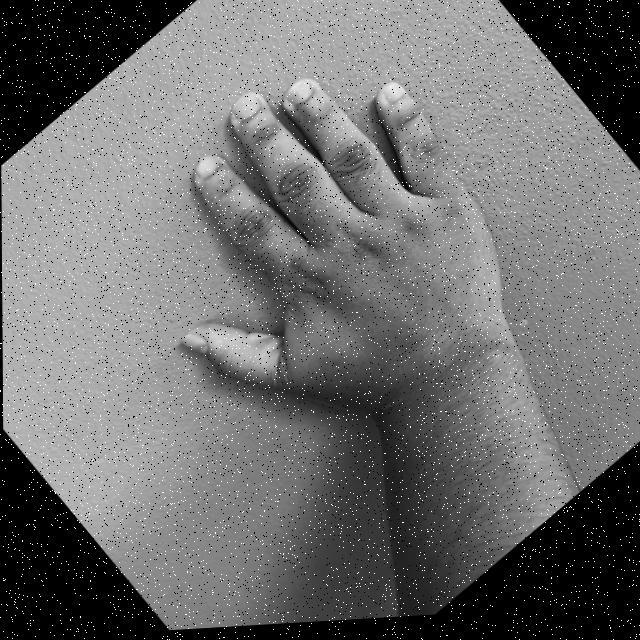no-gloves: (79, 0, 562, 505)
